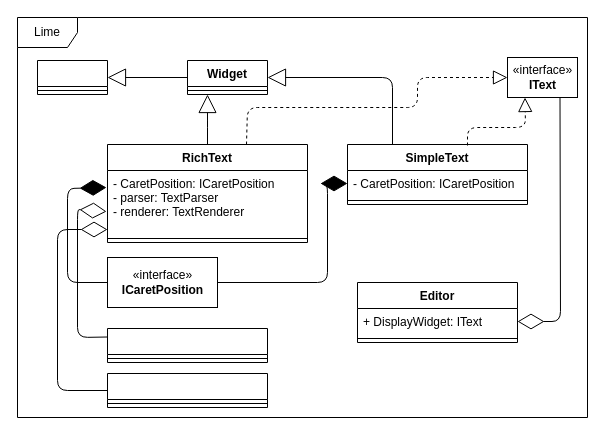
This 605x435 diagram has some shape labels left out. The shapes that lost their labels are listed below. From the top down, each one's centre as x and y in pixels, then its label:
At pixel 72 77: "Node".
At pixel 187 345: "TextParser".
At pixel 187 390: "TextRenderer".
